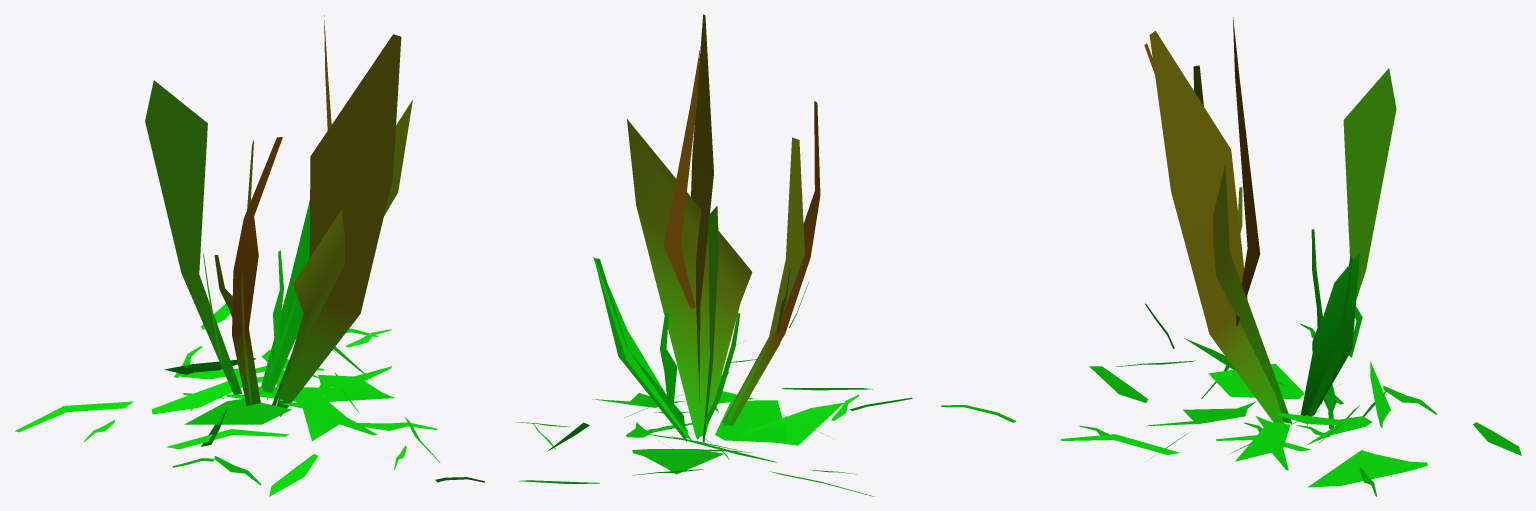
File: Dead Shrubs_LOD1_Var1_vdknafgha.fbx
3 views of the same model, side by side, from view 1: azimuth 30°, elevation 25°; view 2: azimuth 150°, elevation 25°; view 3: azimuth 270°, elevation 25° (orthographic). The views are drawn at different scales.
Parts seen in each view (by area): view 1: _78hv_Var1_LOD1; view 2: _78hv_Var1_LOD1; view 3: _78hv_Var1_LOD1.
Boxes of the visible parts, bbox=[...] form: _78hv_Var1_LOD1: bbox=[15, 15, 485, 496]; _78hv_Var1_LOD1: bbox=[515, 14, 912, 496]; _78hv_Var1_LOD1: bbox=[941, 17, 1521, 496].
Size of the model in its own units: 29.45 by 30.06 by 36.81.
